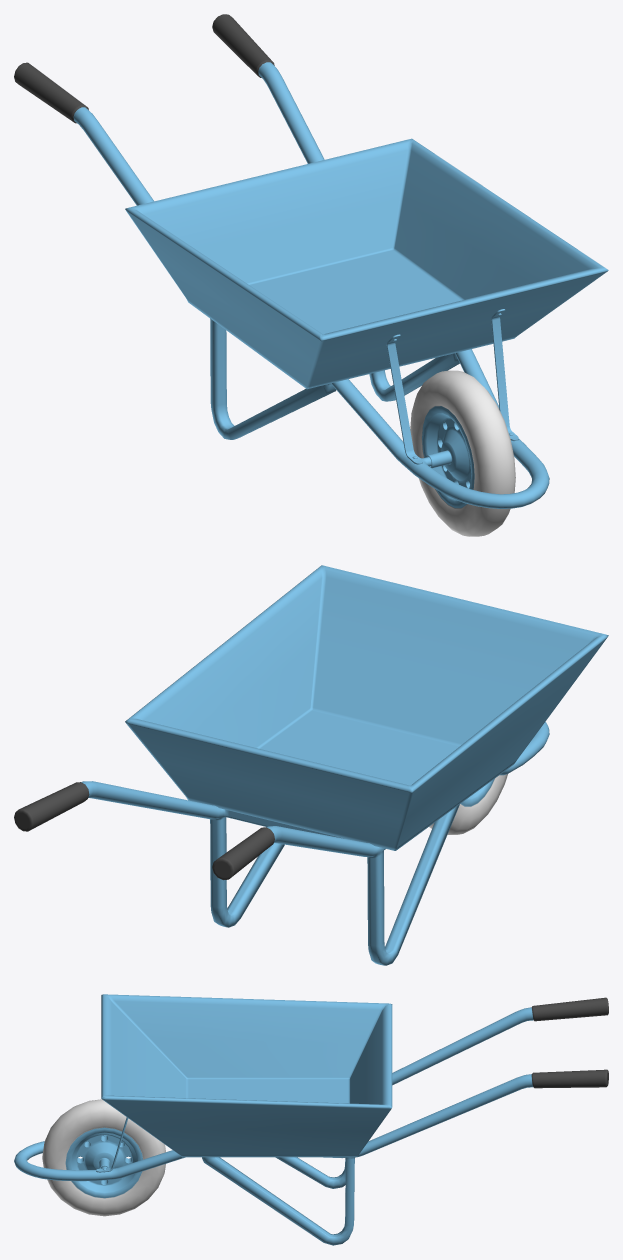
The model's file is WheelBarrow.fbx.
3 renders of one model, top to bottom at view 1: azimuth 30°, elevation 25°; view 2: azimuth 150°, elevation 25°; view 3: azimuth 270°, elevation 25°, orthographic. The views are drawn at different scales.
Visible parts, largest first — view 1: Cart, Wheel; view 2: Cart, Wheel; view 3: Cart, Wheel.
Boxes of the visible parts, bbox=[...] form: Cart: bbox=[14, 14, 608, 508]; Wheel: bbox=[410, 370, 515, 536]; Cart: bbox=[14, 565, 608, 965]; Wheel: bbox=[429, 774, 507, 834]; Cart: bbox=[14, 994, 608, 1245]; Wheel: bbox=[42, 1099, 165, 1216].
Bounding box in the file's own units: 64.02 × 52.18 × 155.
